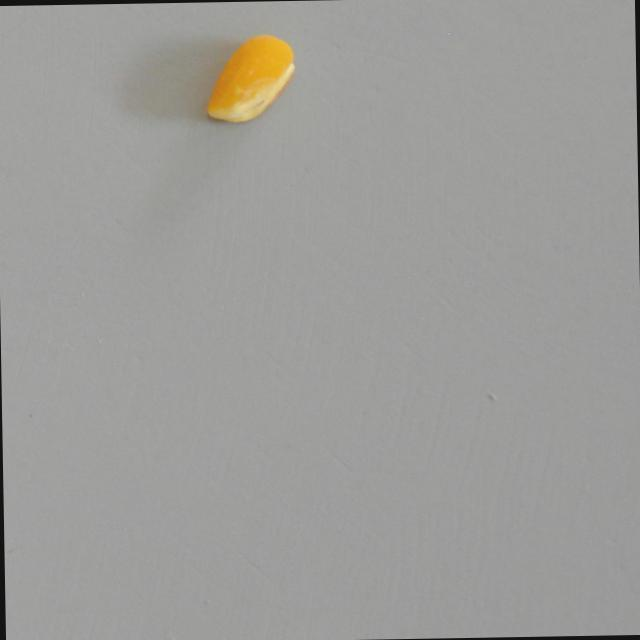punto_negro: (202, 32, 297, 125)
